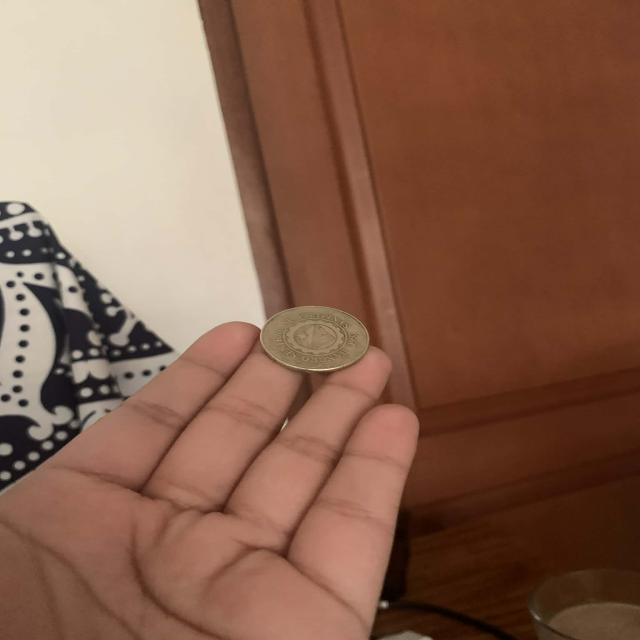5 peso-old: (260, 300, 371, 378)
